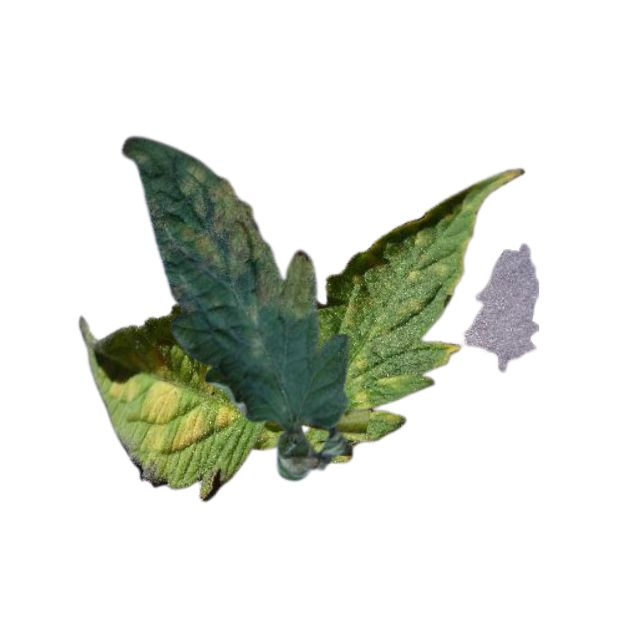Leaf_Mold: (337, 168, 524, 464), (122, 139, 316, 323), (94, 340, 240, 452)
